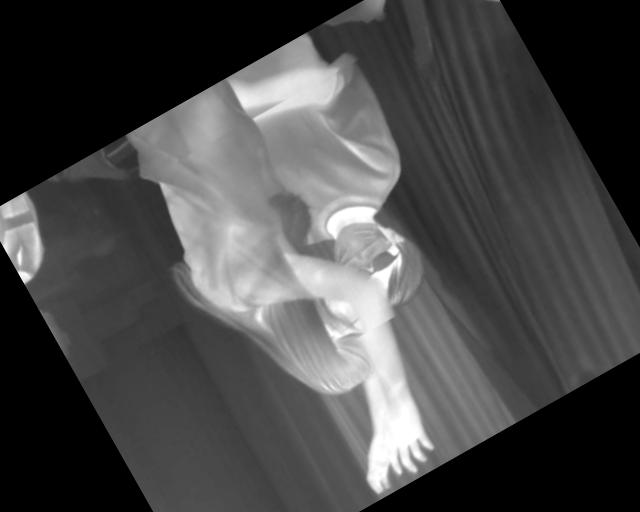face: (330, 204, 435, 322)
